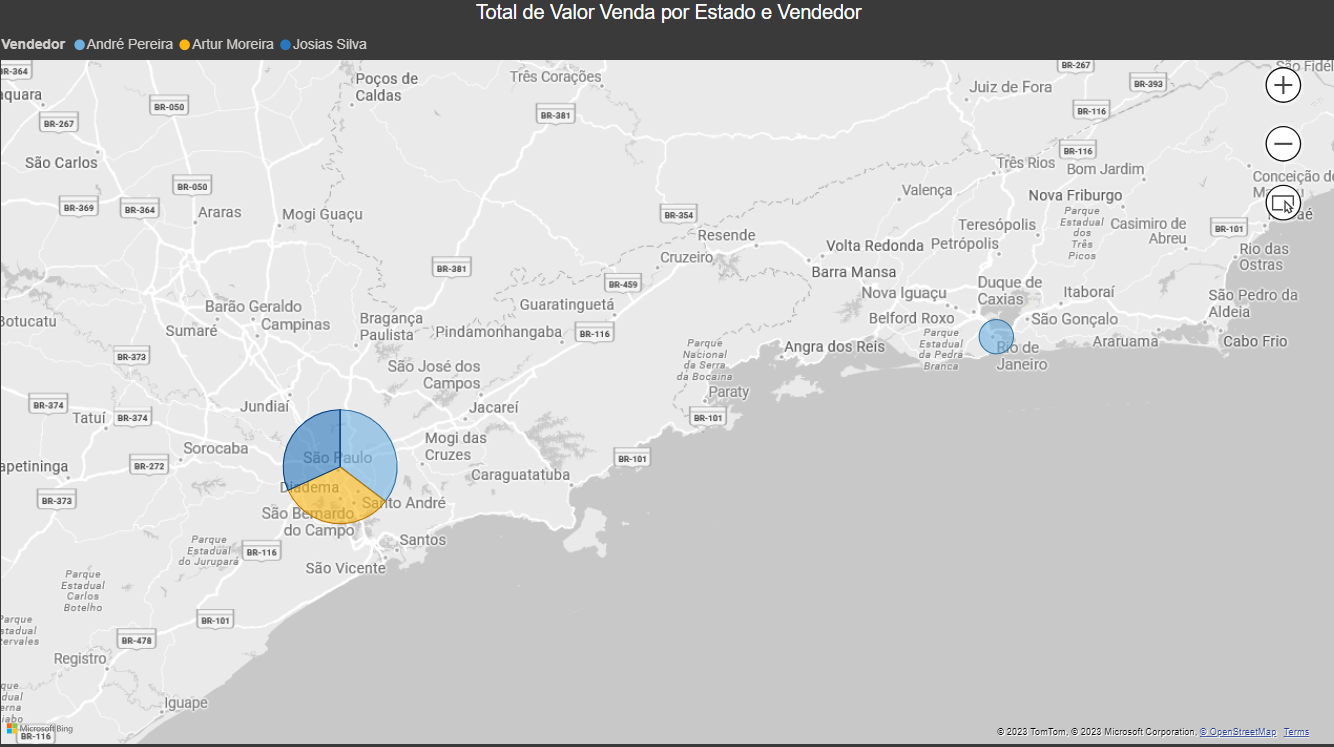

Layout of this report page (visuals, bound fields, positions):
{"tool":"powerbi","page":{"name":"Performance dos Vendedores por Região","canvas":[1280,720],"ordinal":4},"visuals":[{"type":"map","title":"Total de Valor Venda por Estado e Vendedor","fields":{"Category":["Vendas.Estado"],"Series":["Vendas.Vendedor"],"Size":["Sum(Vendas.ValorVenda)"]},"box":[0,8.3,1280.5,711.7],"z":0}]}

Visuals, with their boxes in screenshot pixels (x1, y1, x2, y2), scaled from the page's 1280x720 canvas onto the 1334x747 screenshot:
"Total de Valor Venda por Estado e Vendedor" map: bbox=(0, 9, 1333, 746)
